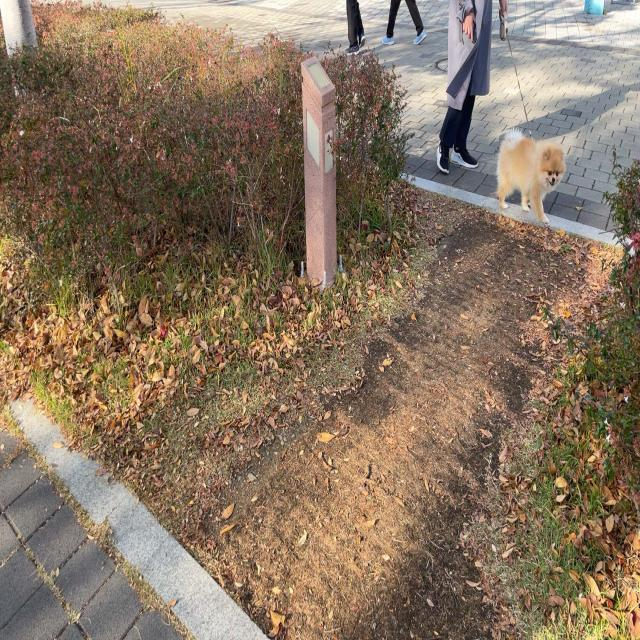Leashed_Dog: (469, 0, 566, 225)
